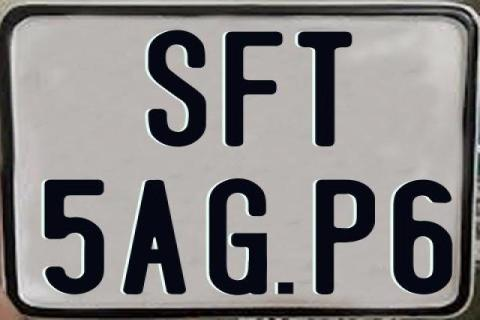0: (42, 179, 103, 299), (391, 180, 453, 298)
A: (120, 180, 188, 294)
F: (222, 30, 281, 150)
G: (207, 178, 270, 296)
P: (316, 179, 377, 296)
S: (145, 29, 203, 149)
T: (296, 29, 355, 145)
